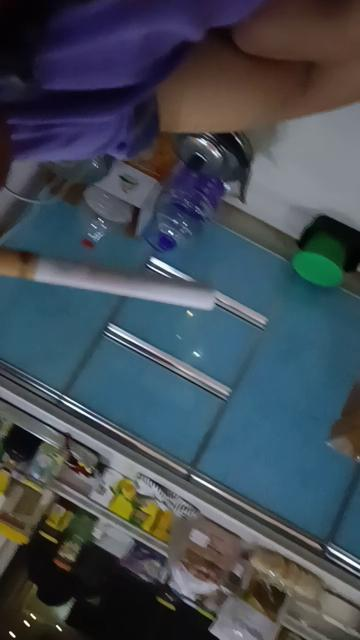Smoking: (0, 246, 216, 311)
